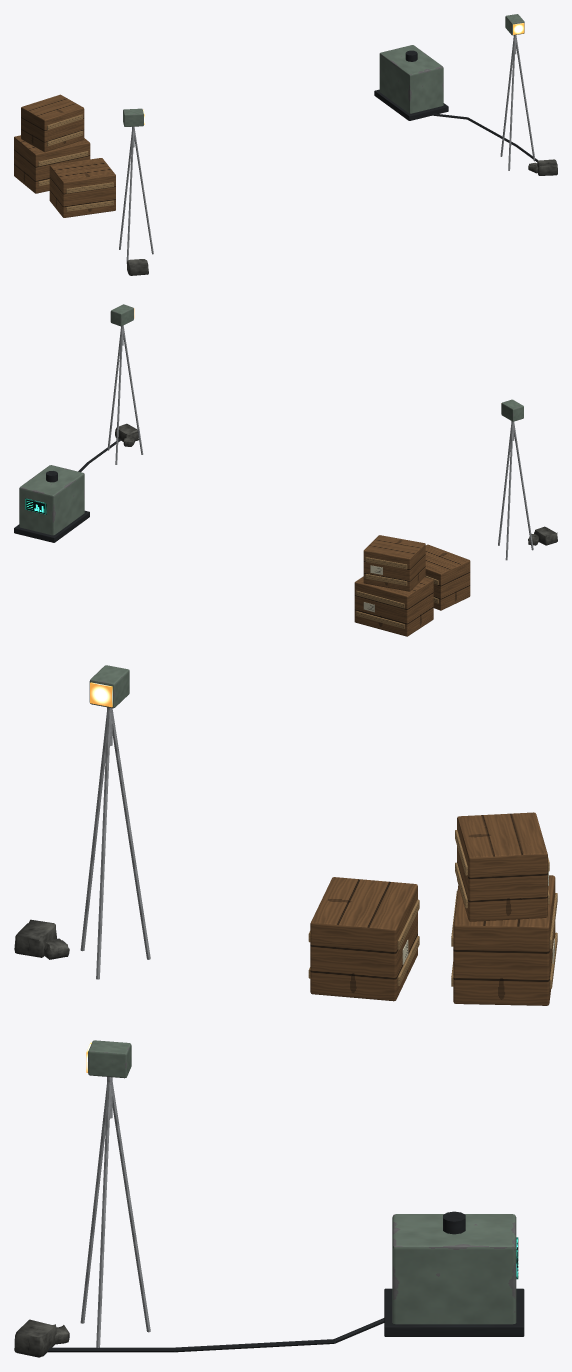
File: THStage_EntryCamp.fbx
3 renders of one model, top to bottom at view 1: azimuth 30°, elevation 25°; view 2: azimuth 150°, elevation 25°; view 3: azimuth 270°, elevation 25°, orthographic. The views are drawn at different scales.
Visible parts, largest first — view 1: THStage_EntryCamp; view 2: THStage_EntryCamp; view 3: THStage_EntryCamp.
Boxes of the visible parts, x1,y1,x2,y2 form: THStage_EntryCamp: (14, 14, 557, 275); THStage_EntryCamp: (14, 304, 557, 636); THStage_EntryCamp: (14, 665, 557, 1357).
Size of the model in its own units: 4.96 by 1.59 by 2.71.
